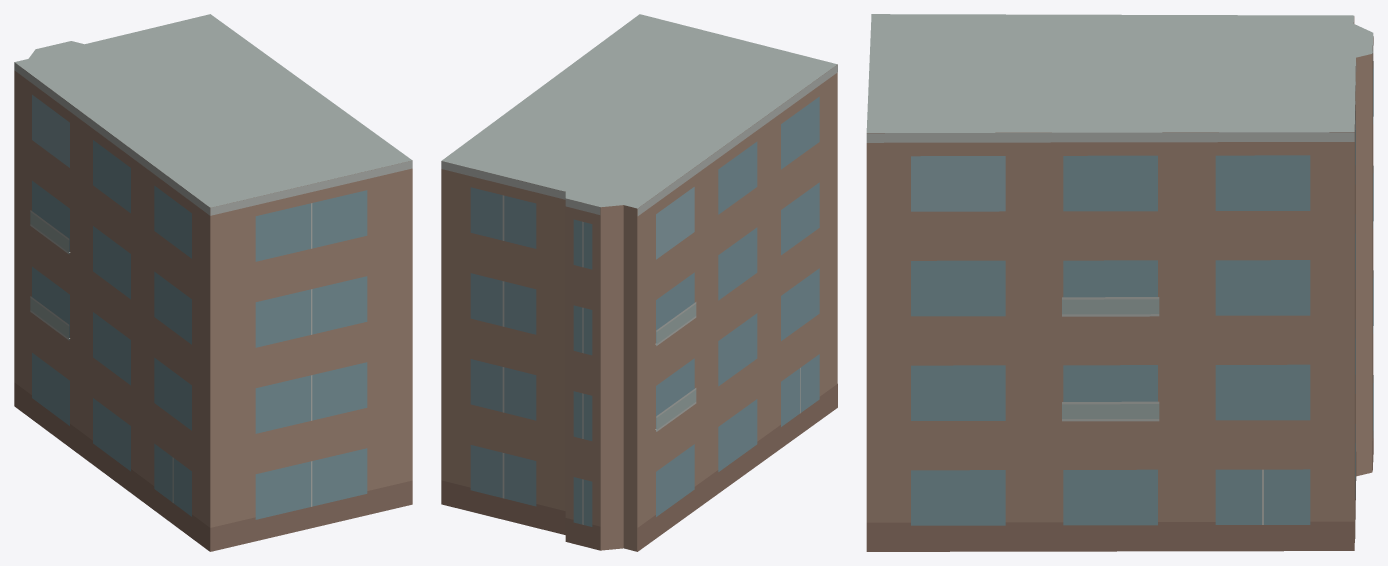
File: survey-upis-32464947.glb
3 renders of one model, left to right at view 1: azimuth 30°, elevation 25°; view 2: azimuth 150°, elevation 25°; view 3: azimuth 270°, elevation 25°, orthographic. The views are drawn at different scales.
Parts seen in each view (by area): view 1: survey-upis-32464947.tmp; view 2: survey-upis-32464947.tmp; view 3: survey-upis-32464947.tmp.
Part boxes in pixels (<box>): survey-upis-32464947.tmp: <box>14,14,412,551</box>; survey-upis-32464947.tmp: <box>441,14,837,551</box>; survey-upis-32464947.tmp: <box>866,14,1373,551</box>.
Bounding box in the file's own units: 6.36 × 10.4 × 11.42.
